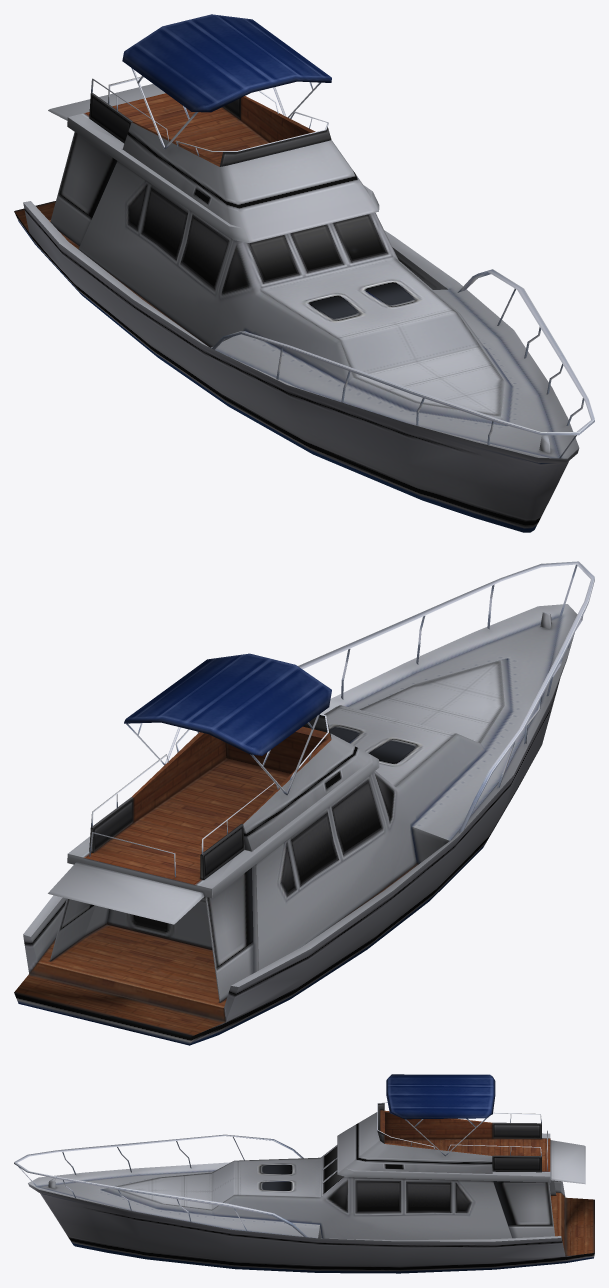
File: sailboat.FBX
The picture shows the model from 3 angles, top to bottom: view 1: azimuth 30°, elevation 25°; view 2: azimuth 150°, elevation 25°; view 3: azimuth 270°, elevation 25°; orthographic projection. The views are drawn at different scales.
Parts seen in each view (by area): view 1: Yatch; view 2: Yatch; view 3: Yatch.
Boxes of the visible parts, left/top/right/bottom form: Yatch: left=14, top=14, right=594, bottom=532; Yatch: left=14, top=561, right=594, bottom=1045; Yatch: left=14, top=1074, right=594, bottom=1273.
Size of the model in its own units: 6.04 by 5.97 by 19.1.
